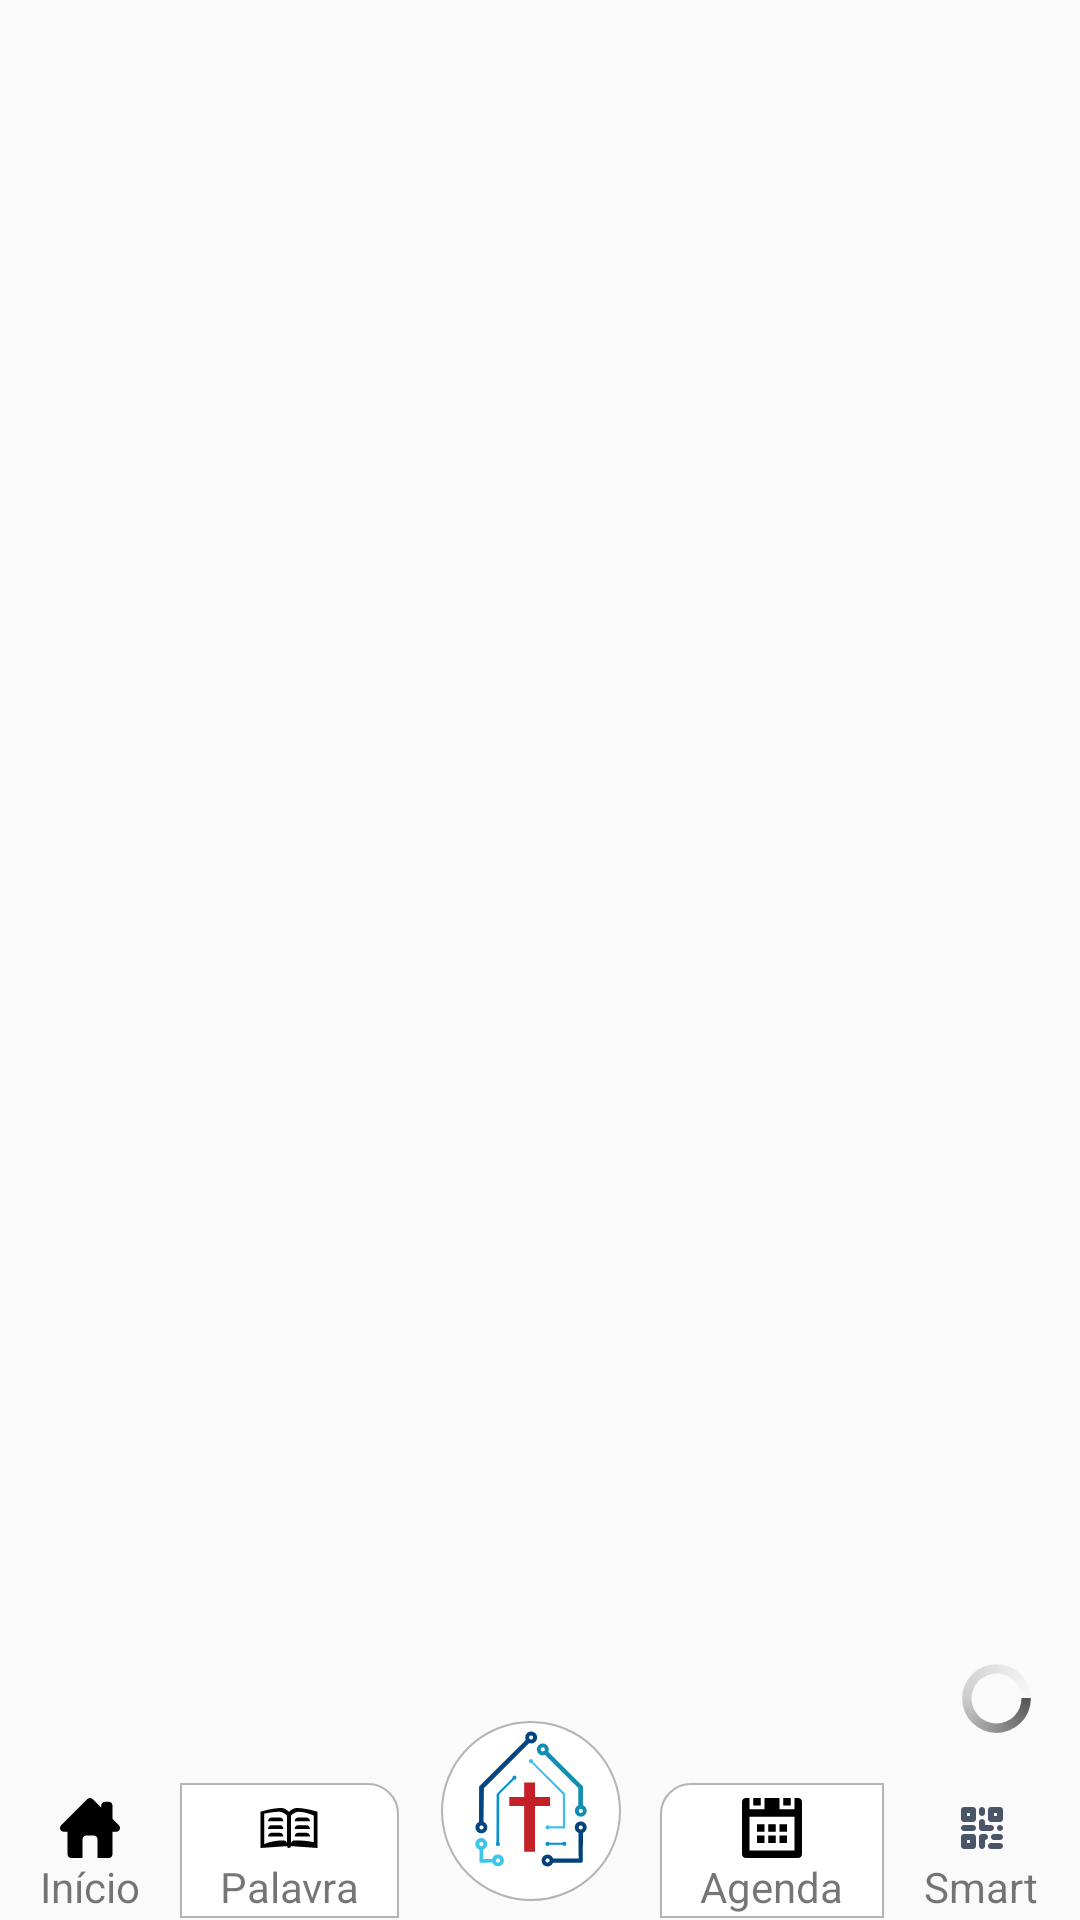

Locate icon controls on the screen. Image size 1080 × 1920, boxes as (x1, y1, x2, y2).
book: (260, 1808, 318, 1848)
qrcode: (961, 1807, 1003, 1849)
